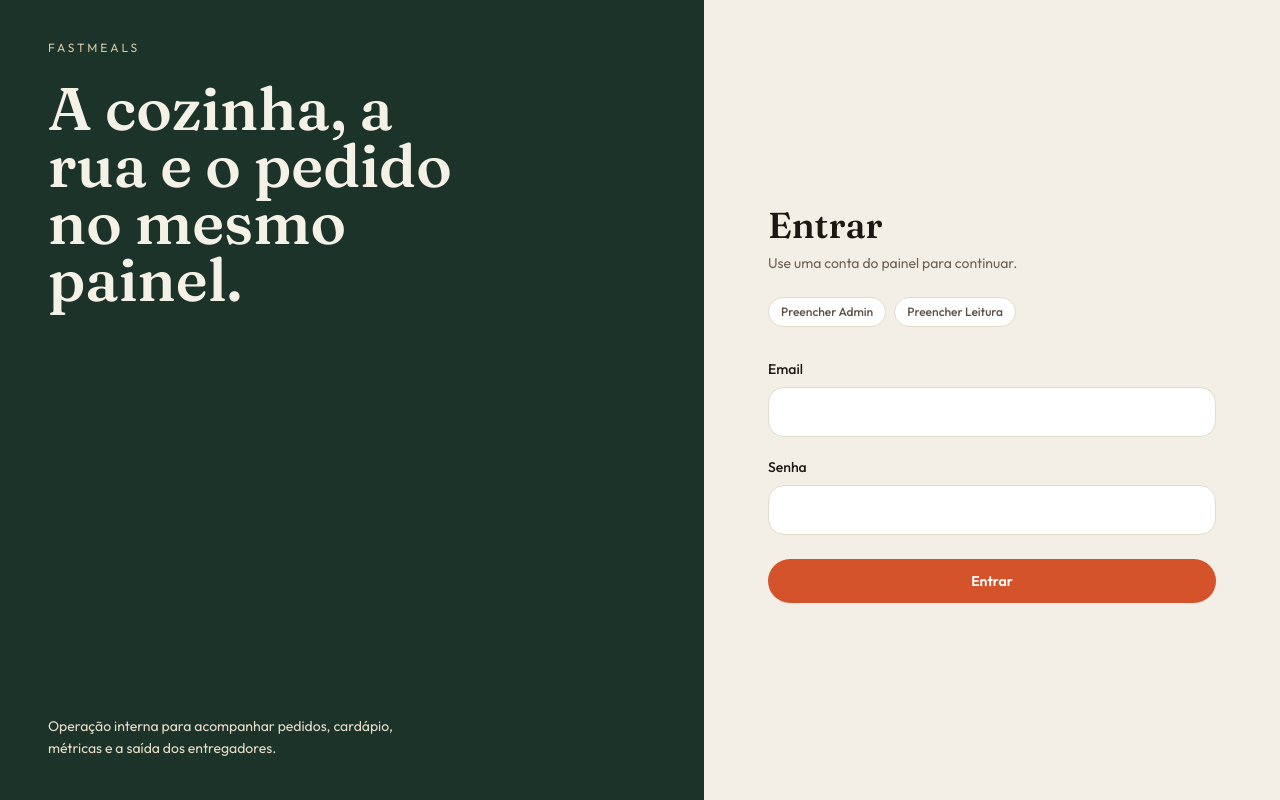
Test: login › preenche a conta de admin ao clicar no atalho
The image size is (1280, 800).
Expected: the heading "Entrar" is shown, [768, 203, 883, 247]
Click the button "Preencher Admin". click: (827, 312)
box: [768, 297, 886, 327]
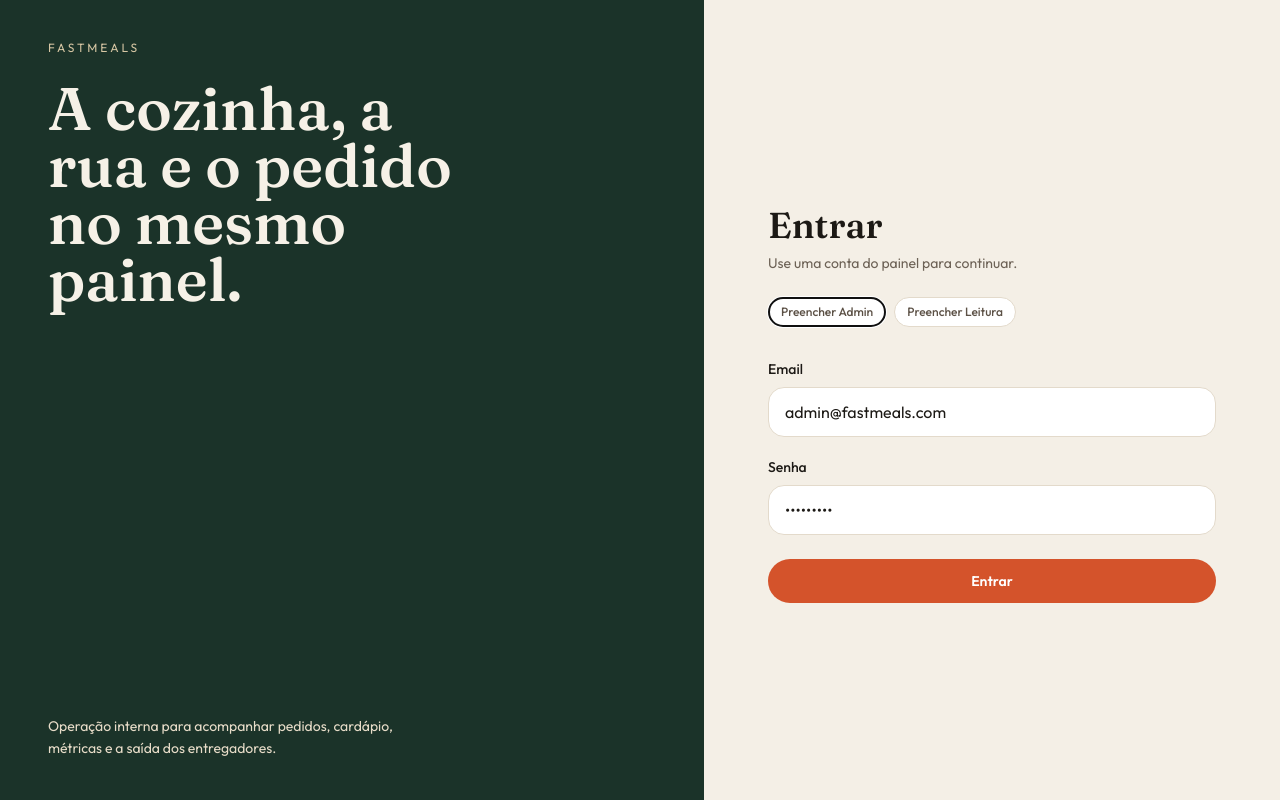
Expected: the field labelled "Email" holds "admin@fastmeals.com", [768, 387, 1216, 437]
Expected: the password field labelled "Senha" holds "Admin@123", [768, 485, 1216, 535]
